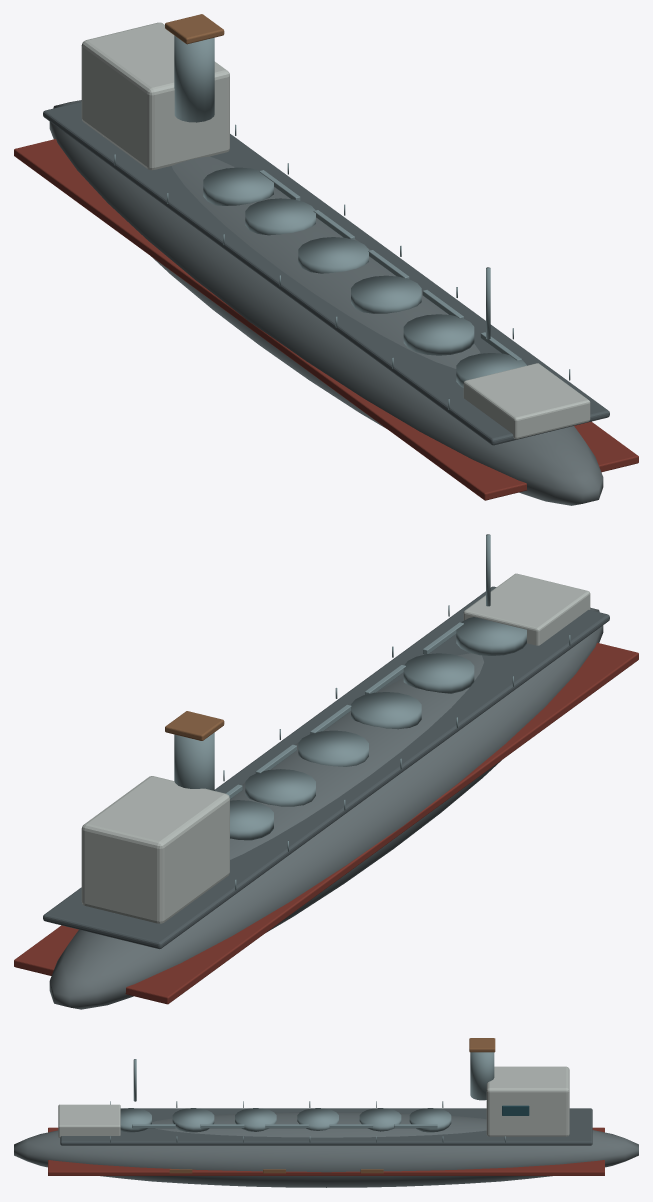
File: tanker-lod1.glb
3 views of the same model, one above another, from view 1: azimuth 30°, elevation 25°; view 2: azimuth 150°, elevation 25°; view 3: azimuth 270°, elevation 25° (orthographic). The views are drawn at different scales.
Parts seen in each view (by area): view 1: tanker-hull, tanker-deck, aft-bridge, tanker-waterline, forecastle, funnel-stack, cargo-tank-1, cargo-tank-2, cargo-tank-5, cargo-tank-4, cargo-tank-3, cargo-tank-0 (+1 smaller); view 2: tanker-hull, tanker-deck, aft-bridge, tanker-waterline, forecastle, cargo-tank-1, cargo-tank-4, cargo-tank-2, cargo-tank-3, cargo-tank-0, funnel-stack, cargo-tank-5 (+1 smaller); view 3: tanker-hull, tanker-deck, aft-bridge, tanker-waterline, forecastle, funnel-stack, cargo-tank-1, cargo-tank-5, cargo-tank-2, cargo-tank-4, cargo-tank-3, cargo-tank-0 (+2 smaller).
Part boxes in pixels (x1,y1,x2,y2): tanker-hull: [49, 100, 603, 505]; tanker-deck: [43, 101, 609, 445]; aft-bridge: [81, 22, 229, 170]; tanker-waterline: [14, 139, 638, 500]; forecastle: [463, 363, 590, 439]; funnel-stack: [174, 35, 214, 122]; cargo-tank-1: [403, 314, 474, 355]; cargo-tank-2: [351, 275, 421, 313]; cargo-tank-5: [203, 167, 273, 205]; cargo-tank-4: [245, 198, 315, 235]; cargo-tank-3: [298, 237, 368, 273]; cargo-tank-0: [456, 353, 526, 387]; tanker-hull: [49, 607, 603, 1009]; tanker-deck: [43, 586, 609, 949]; aft-bridge: [81, 776, 229, 923]; tanker-waterline: [14, 642, 638, 1004]; forecastle: [463, 573, 590, 645]; cargo-tank-1: [403, 653, 474, 693]; cargo-tank-4: [245, 769, 315, 806]; cargo-tank-2: [351, 692, 421, 729]; cargo-tank-3: [298, 730, 368, 766]; cargo-tank-0: [456, 617, 526, 655]; funnel-stack: [174, 732, 214, 790]; cargo-tank-5: [230, 800, 273, 840]; tanker-hull: [14, 1112, 638, 1187]; tanker-deck: [60, 1108, 592, 1145]; aft-bridge: [486, 1066, 569, 1136]; tanker-waterline: [48, 1127, 604, 1175]; forecastle: [58, 1104, 120, 1137]; funnel-stack: [470, 1052, 494, 1100]; cargo-tank-1: [172, 1108, 214, 1132]; cargo-tank-5: [409, 1108, 451, 1132]; cargo-tank-2: [235, 1108, 276, 1131]; cargo-tank-4: [359, 1108, 401, 1131]; cargo-tank-3: [297, 1108, 338, 1130]; cargo-tank-0: [120, 1108, 151, 1132].
Size of the model in its own units: 5.11 by 7.28 by 30.07.
